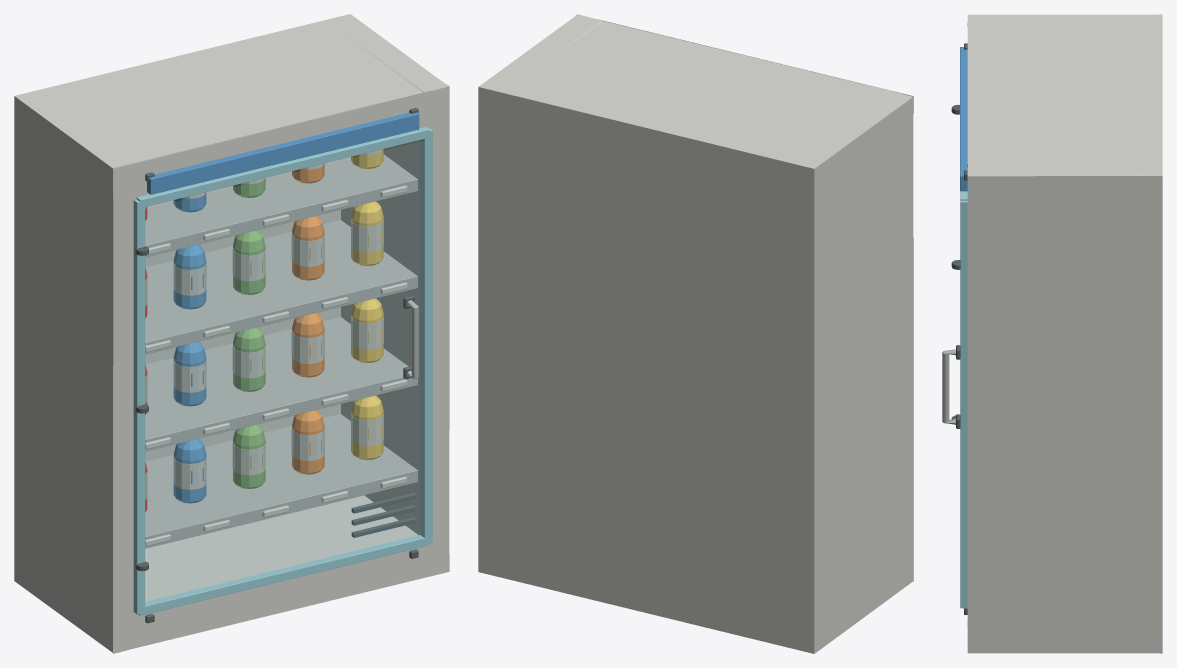
File: Fridge_GlassDoor.fbx
3 views of the same model, side by side, from view 1: azimuth 30°, elevation 25°; view 2: azimuth 150°, elevation 25°; view 3: azimuth 270°, elevation 25° (orthographic).
Visible parts, largest first — view 1: Fridge_GlassDoor__LPCXFER, Fridge_GlassDoor_Item_02_bottle__LPCXFER, Fridge_GlassDoor_Item_07_bottle__LPCXFER, Fridge_GlassDoor_Item_12_bottle__LPCXFER, Fridge_GlassDoor_Item_03_bottle__LPCXFER, Fridge_GlassDoor_Item_08_bottle__LPCXFER, Fridge_GlassDoor_Item_13_bottle__LPCXFER, Fridge_GlassDoor_Item_09_bottle__LPCXFER, Fridge_GlassDoor_Item_14_bottle__LPCXFER, Fridge_GlassDoor_Item_04_bottle__LPCXFER, Fridge_GlassDoor_Item_05_bottle__LPCXFER, Fridge_GlassDoor_Item_10_bottle__LPCXFER (+1 smaller); view 2: Fridge_GlassDoor__LPCXFER; view 3: Fridge_GlassDoor__LPCXFER.
Boxes of the visible parts, x1,y1,x2,y2 form: Fridge_GlassDoor__LPCXFER: [14, 14, 449, 653]; Fridge_GlassDoor_Item_02_bottle__LPCXFER: [173, 438, 206, 503]; Fridge_GlassDoor_Item_07_bottle__LPCXFER: [173, 341, 206, 406]; Fridge_GlassDoor_Item_12_bottle__LPCXFER: [173, 244, 206, 309]; Fridge_GlassDoor_Item_03_bottle__LPCXFER: [232, 424, 265, 488]; Fridge_GlassDoor_Item_08_bottle__LPCXFER: [232, 327, 265, 391]; Fridge_GlassDoor_Item_13_bottle__LPCXFER: [232, 230, 265, 294]; Fridge_GlassDoor_Item_09_bottle__LPCXFER: [291, 313, 324, 377]; Fridge_GlassDoor_Item_14_bottle__LPCXFER: [291, 216, 324, 280]; Fridge_GlassDoor_Item_04_bottle__LPCXFER: [291, 410, 324, 474]; Fridge_GlassDoor_Item_05_bottle__LPCXFER: [351, 395, 383, 460]; Fridge_GlassDoor_Item_10_bottle__LPCXFER: [351, 298, 383, 363]; Fridge_GlassDoor__LPCXFER: [478, 14, 913, 653]; Fridge_GlassDoor__LPCXFER: [942, 14, 1162, 653].
Bounding box in the file's own units: 145 × 200 × 83.53.
